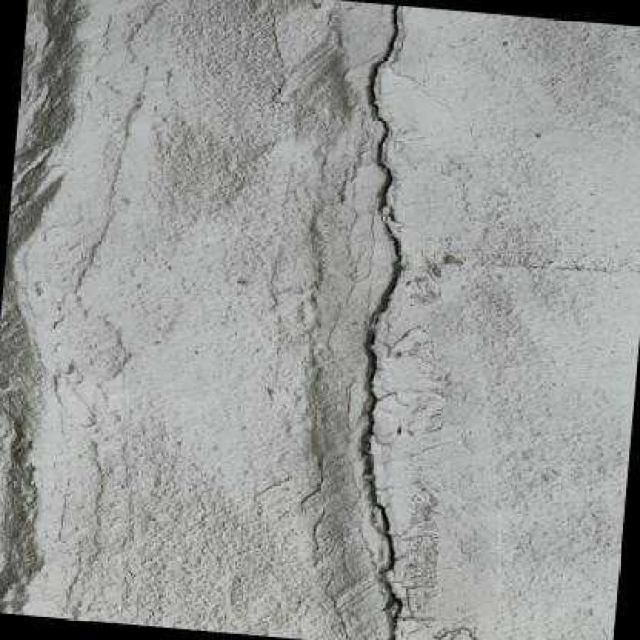D00: (352, 4, 415, 640)
